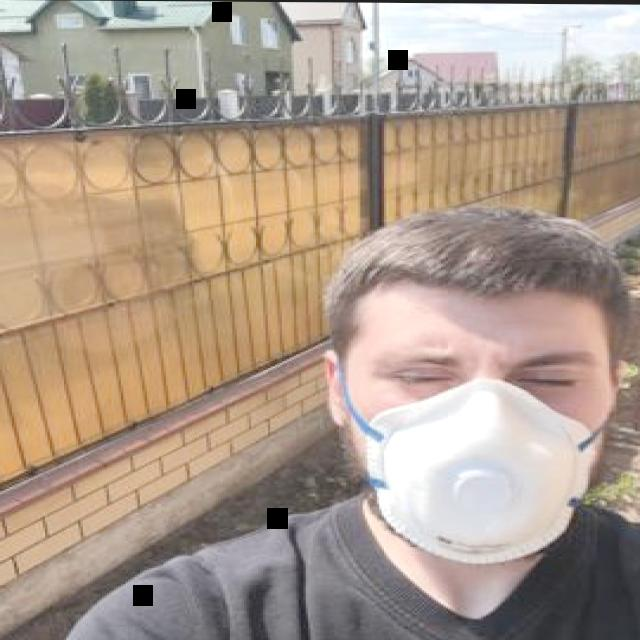Mask: (337, 302, 612, 562)
